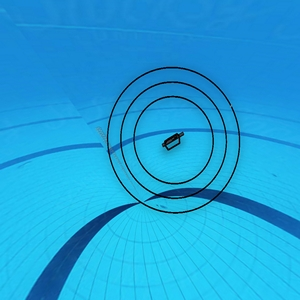circle: (104, 61, 244, 217)
submarine: (162, 130, 183, 151)
